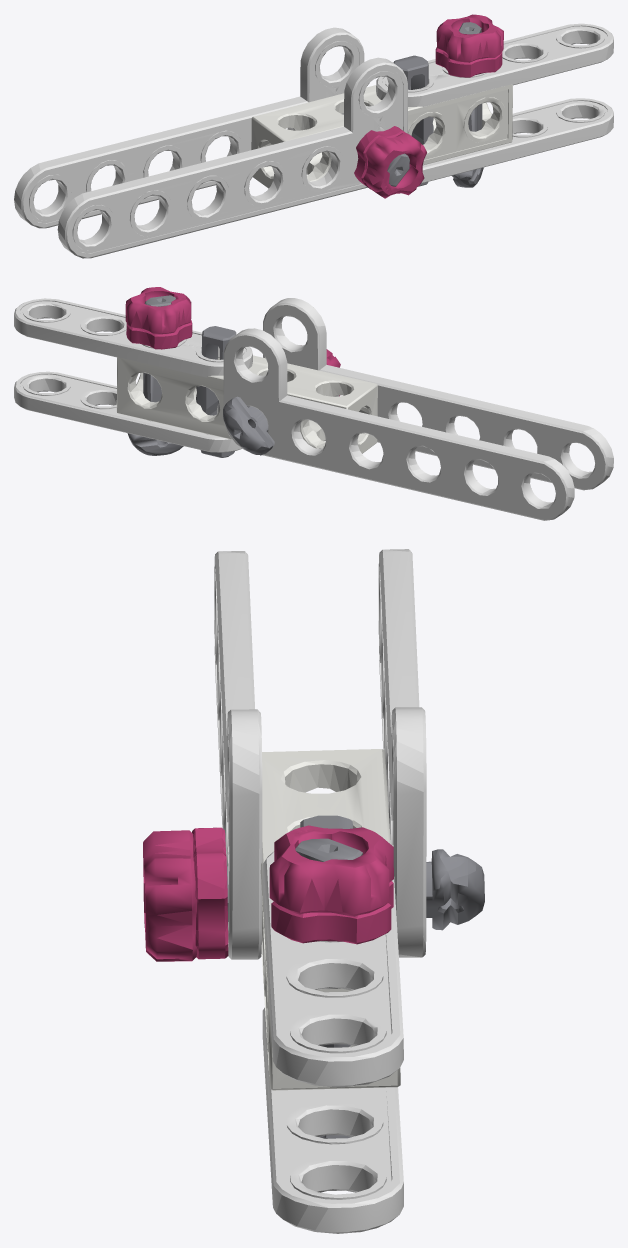
Rendered from state7.fbx.
3 renders of one model, top to bottom at view 1: azimuth 30°, elevation 25°; view 2: azimuth 150°, elevation 25°; view 3: azimuth 270°, elevation 25°, orthographic. The views are drawn at different scales.
Parts seen in each view (by area): view 1: Pin SPP INR LCT BDR BU01.00x00.50 - SPN-PIN-0094 (stemfie.or; view 2: Pin SPP INR LCT BDR BU01.00x00.50 - SPN-PIN-0094 (stemfie.or; view 3: Pin SPP INR LCT BDR BU01.00x00.50 - SPN-PIN-0094 (stemfie.or.
Boxes of the visible parts, left/top/right/bottom form: Pin SPP INR LCT BDR BU01.00x00.50 - SPN-PIN-0094 (stemfie.or: left=14, top=14, right=613, bottom=258; Pin SPP INR LCT BDR BU01.00x00.50 - SPN-PIN-0094 (stemfie.or: left=14, top=287, right=613, bottom=520; Pin SPP INR LCT BDR BU01.00x00.50 - SPN-PIN-0094 (stemfie.or: left=143, top=549, right=484, bottom=1233.
Size of the model in its own units: 12470 by 3426 by 3255.
